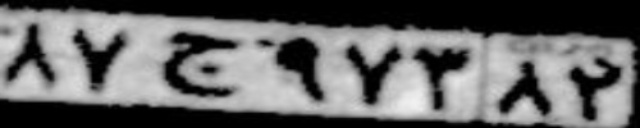2: (568, 62, 625, 121)
3: (412, 44, 475, 110)
7: (340, 41, 405, 104), (72, 26, 128, 90)
8: (3, 21, 58, 83), (494, 60, 551, 114)
9: (274, 36, 325, 100)
jim: (163, 32, 238, 98)
